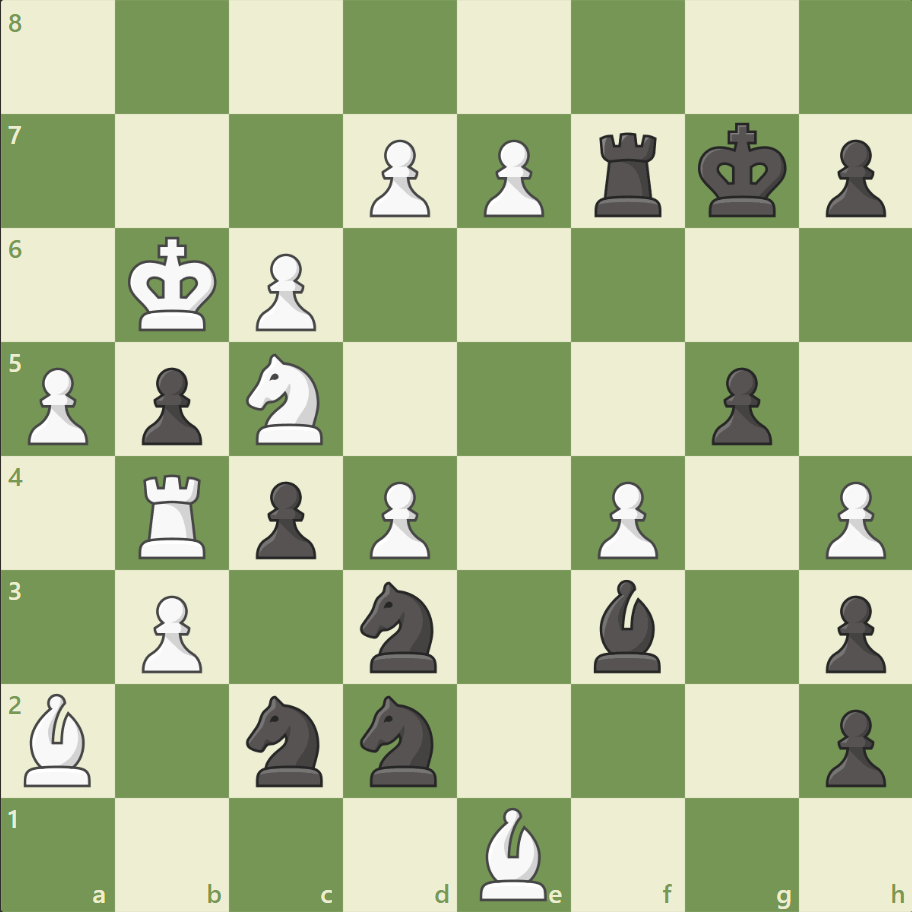B: (17, 687, 101, 790), (471, 801, 555, 904)
K: (124, 231, 224, 339)
N: (238, 348, 335, 450)
P: (474, 132, 549, 223), (247, 246, 322, 337), (20, 359, 95, 450), (133, 586, 208, 677), (361, 132, 435, 223), (361, 473, 435, 564), (588, 473, 662, 564), (815, 473, 889, 564)
R: (133, 466, 215, 563)
b: (585, 574, 669, 676)
k: (692, 117, 792, 225)
n: (351, 688, 449, 791), (351, 575, 449, 677), (238, 688, 335, 791)
p: (133, 359, 208, 450), (701, 359, 776, 450), (247, 473, 322, 564), (815, 132, 889, 223), (815, 586, 889, 677), (815, 700, 889, 791)
r: (587, 125, 670, 222)
